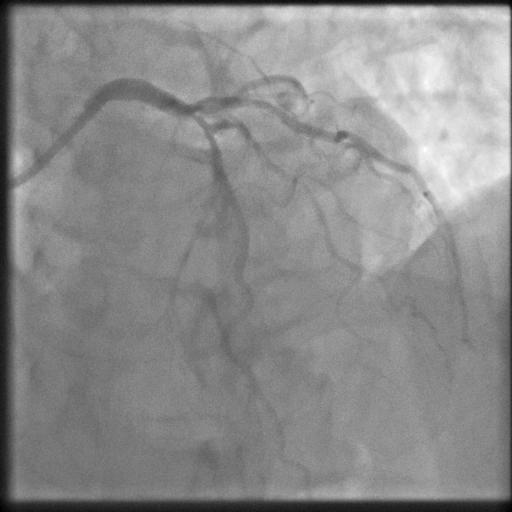Stenosis: (183, 105, 216, 142)
